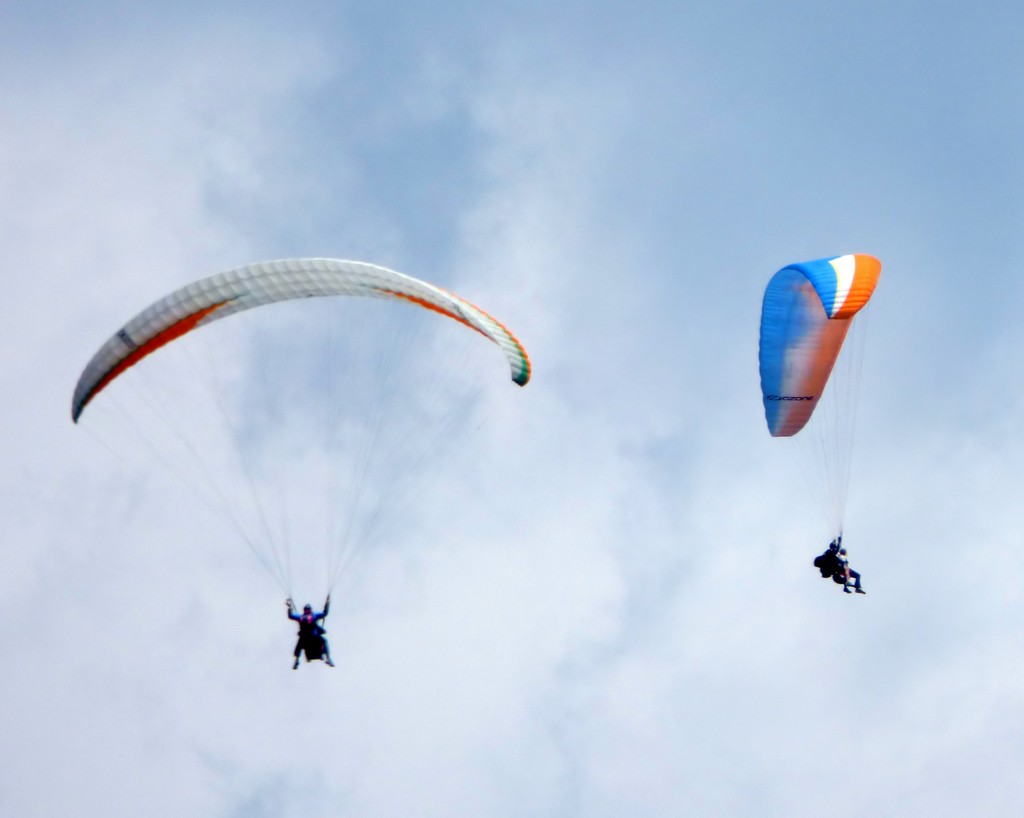person: (284, 594, 334, 669)
